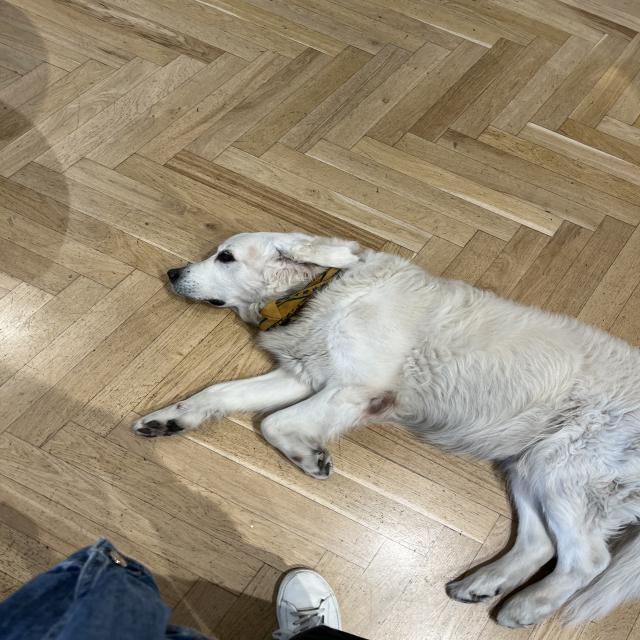dog-retriever: (162, 230, 361, 316)
